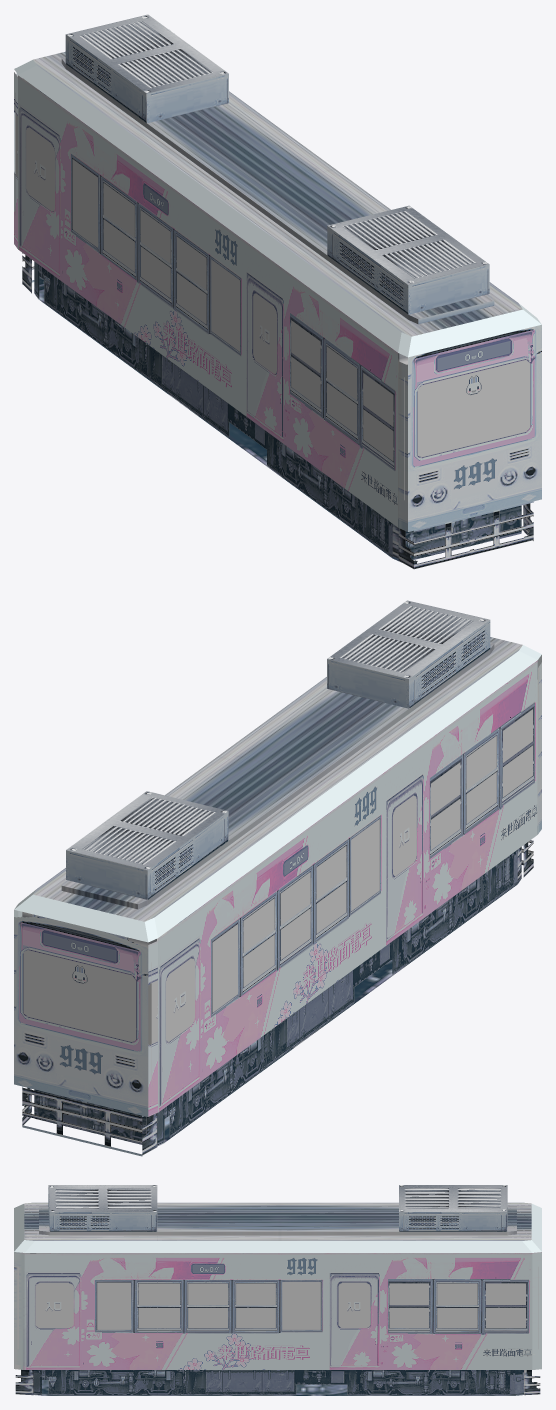
File: SakuraStreetcarTram.fbx
3 views of the same model, one above another, from view 1: azimuth 30°, elevation 25°; view 2: azimuth 150°, elevation 25°; view 3: azimuth 270°, elevation 25° (orthographic). The views are drawn at different scales.
Parts seen in each view (by area): view 1: TramGlass; view 2: TramGlass; view 3: TramGlass.
Part boxes in pixels (box(x1,y1,x2,y2)): TramGlass: box(14, 14, 541, 569); TramGlass: box(14, 600, 541, 1156); TramGlass: box(14, 1185, 541, 1395).
Bounding box in the file's own units: 173 × 311 × 841.
